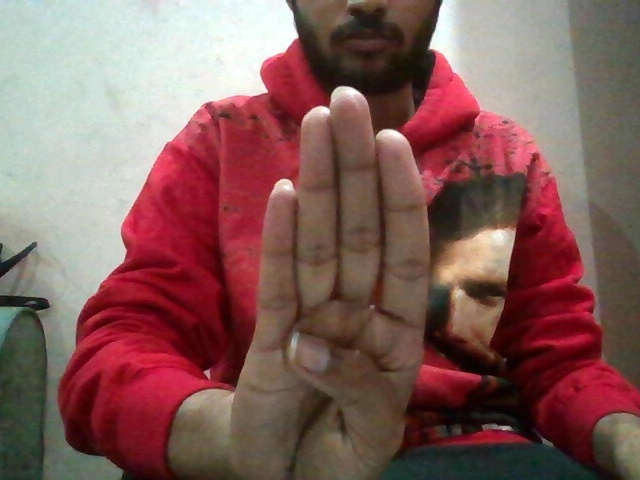B: (207, 77, 440, 480)
